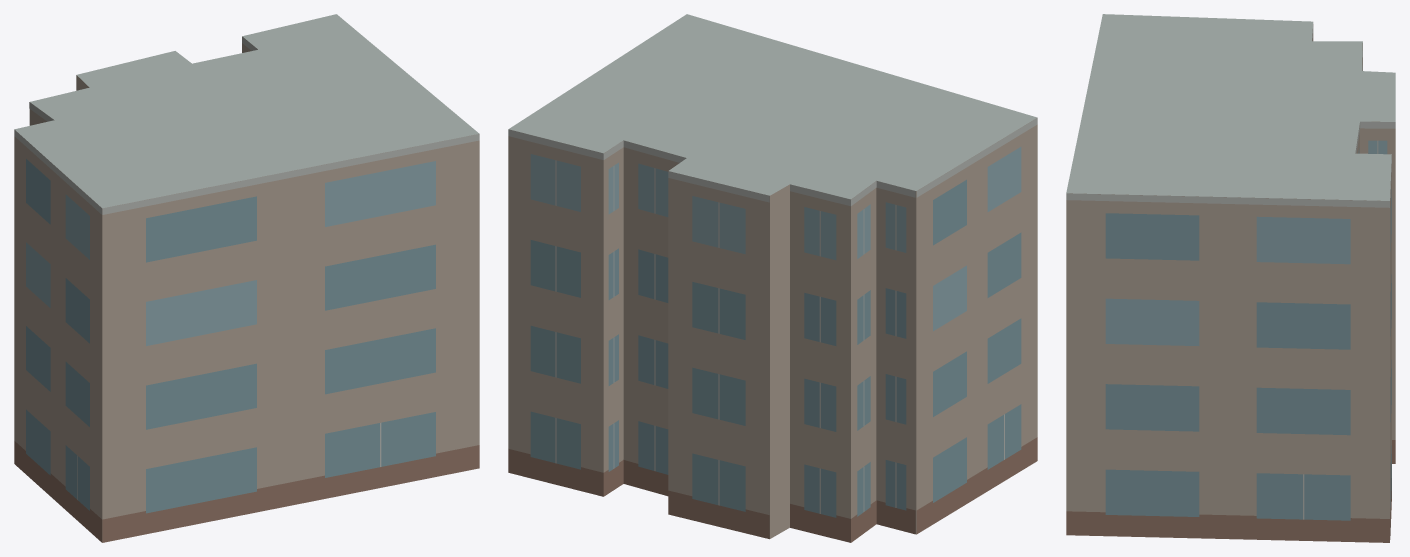
The model's file is survey-upis-32926410.glb.
3 renders of one model, left to right at view 1: azimuth 30°, elevation 25°; view 2: azimuth 150°, elevation 25°; view 3: azimuth 270°, elevation 25°, orthographic. The views are drawn at different scales.
Parts seen in each view (by area): view 1: survey-upis-32926410.tmp; view 2: survey-upis-32926410.tmp; view 3: survey-upis-32926410.tmp.
Part boxes in pixels (x1,y1,x2,y2): survey-upis-32926410.tmp: [14, 14, 479, 542]; survey-upis-32926410.tmp: [508, 14, 1037, 542]; survey-upis-32926410.tmp: [1066, 14, 1395, 542].
Size of the model in its own units: 14.32 by 12.2 by 10.67.
